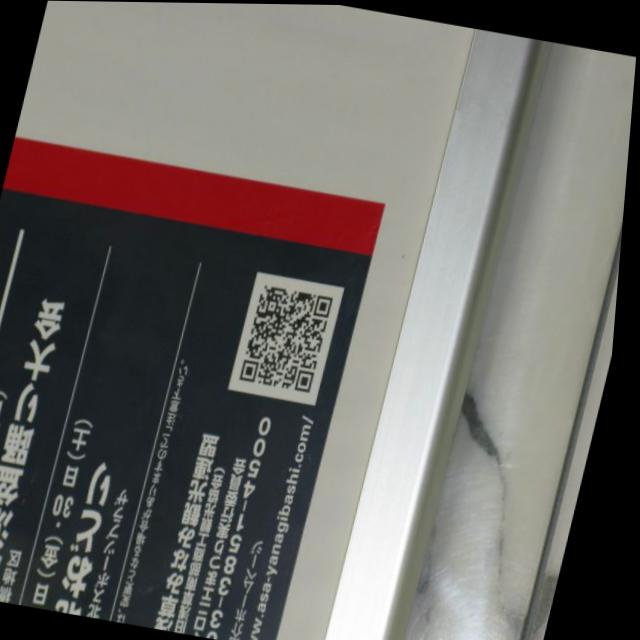qrcode: (245, 283, 339, 392)
